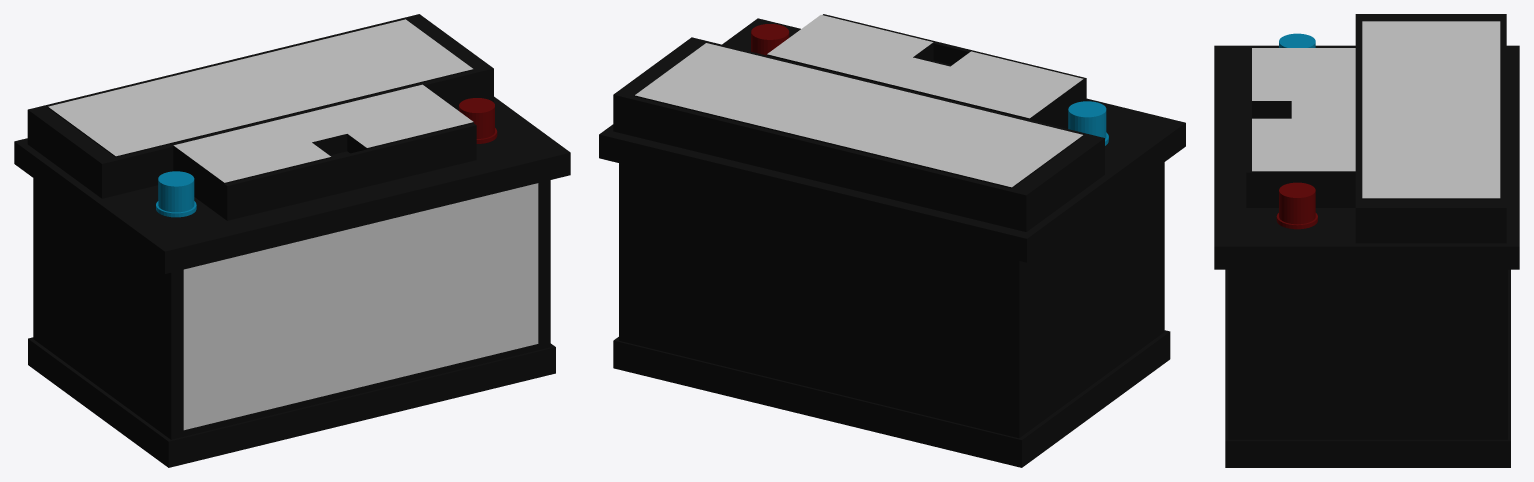
The model's file is bateriaauto.glb.
3 views of the same model, side by side, from view 1: azimuth 30°, elevation 25°; view 2: azimuth 150°, elevation 25°; view 3: azimuth 270°, elevation 25° (orthographic). The views are drawn at different scales.
Visible parts, largest first — view 1: Cube, Cubo, Cilindro.002, Cilindro.003; view 2: Cube, Cubo, Cilindro.002, Cilindro.003; view 3: Cube, Cubo, Cilindro.003, Cilindro.002.
Part boxes in pixels (x1,y1,x2,y2): Cube: [14, 96, 570, 467]; Cubo: [27, 14, 493, 220]; Cilindro.002: [158, 171, 194, 212]; Cilindro.003: [459, 98, 494, 138]; Cube: [599, 18, 1185, 467]; Cubo: [613, 14, 1104, 231]; Cilindro.002: [1068, 101, 1106, 139]; Cilindro.003: [751, 24, 789, 55]; Cube: [1214, 45, 1519, 467]; Cubo: [1246, 14, 1506, 243]; Cilindro.003: [1279, 182, 1315, 224]; Cilindro.002: [1279, 33, 1315, 47].
Size of the model in its own units: 12.7 by 7.74 by 8.16.
